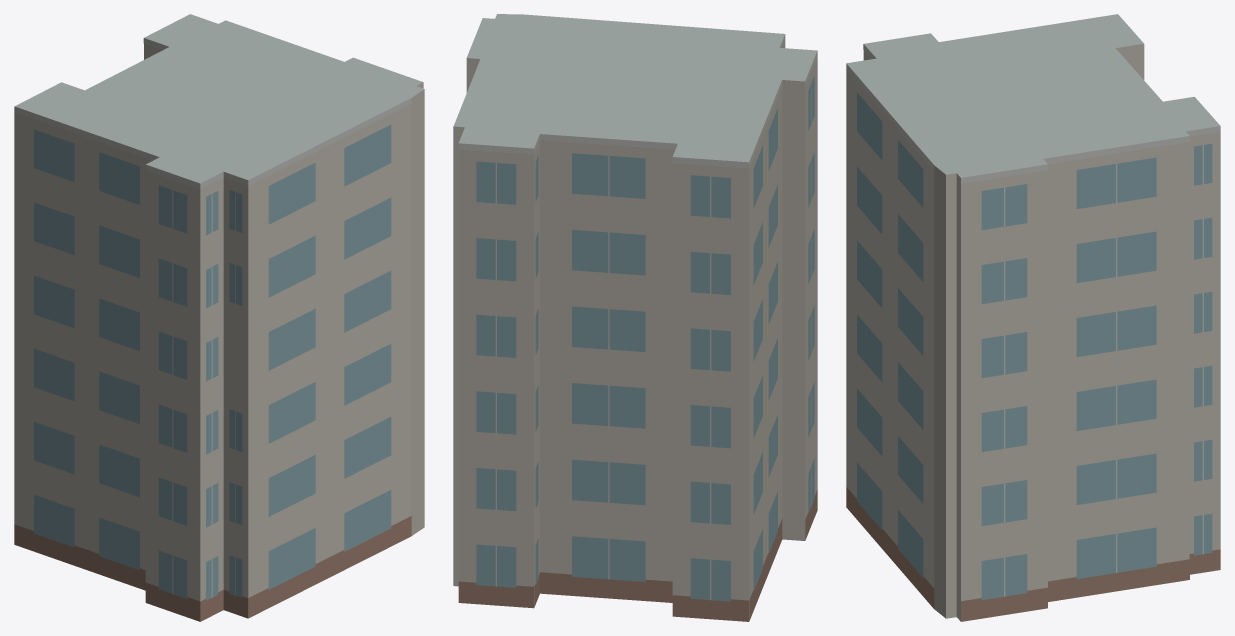
Rendered from survey-upis-32745969.glb.
3 renders of one model, left to right at view 1: azimuth 30°, elevation 25°; view 2: azimuth 150°, elevation 25°; view 3: azimuth 270°, elevation 25°, orthographic. The views are drawn at different scales.
Parts seen in each view (by area): view 1: survey-upis-32745969.tmp; view 2: survey-upis-32745969.tmp; view 3: survey-upis-32745969.tmp.
Boxes of the visible parts, x1,y1,x2,y2 form: survey-upis-32745969.tmp: (14, 14, 424, 621); survey-upis-32745969.tmp: (453, 14, 817, 621); survey-upis-32745969.tmp: (846, 14, 1220, 621).
Size of the model in its own units: 14.5 by 18.3 by 13.99.
